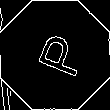P_W: (25, 28, 85, 82)
